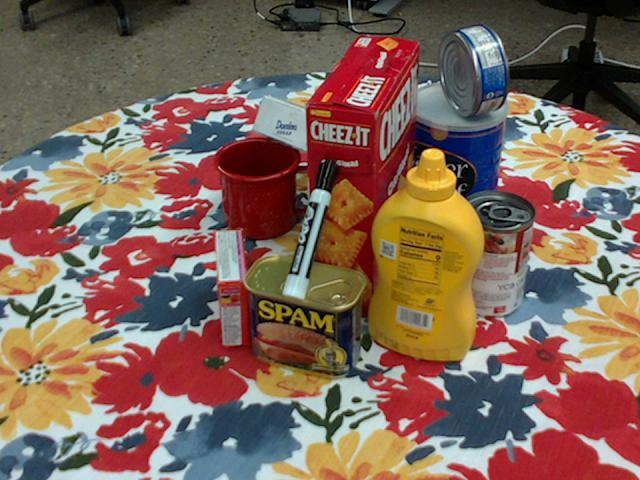cracker_box: (304, 35, 420, 316)
gelatin_box: (215, 228, 249, 346)
large_marker: (283, 157, 338, 299)
master_chef_can: (404, 81, 507, 243)
mug: (214, 137, 326, 240)
mustard_bottle: (368, 148, 485, 361)
potted_meat_can: (244, 254, 367, 378)
sugar_box: (254, 96, 407, 183)
tomato_soup_can: (454, 190, 535, 318)
tuna_fish_can: (436, 24, 509, 115)
